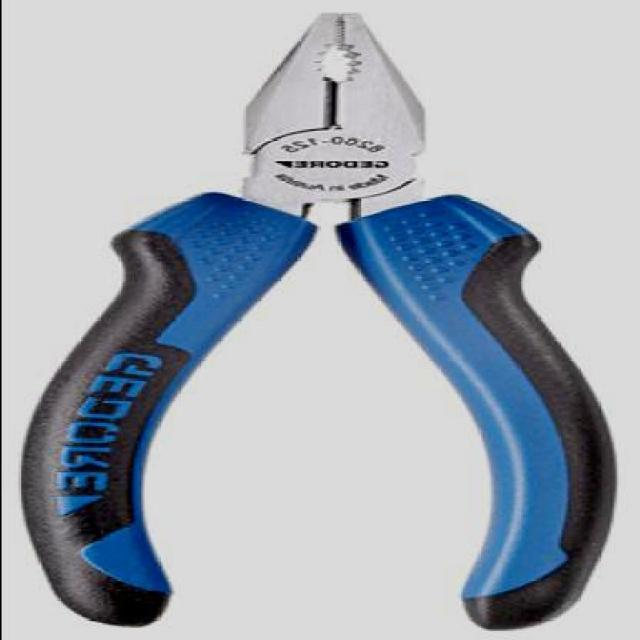pliers: (18, 11, 616, 624)
